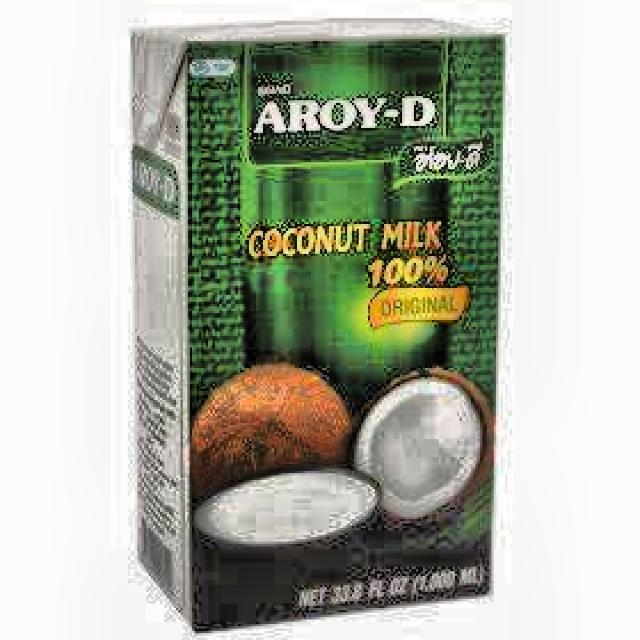cardboard: (128, 16, 505, 633)
